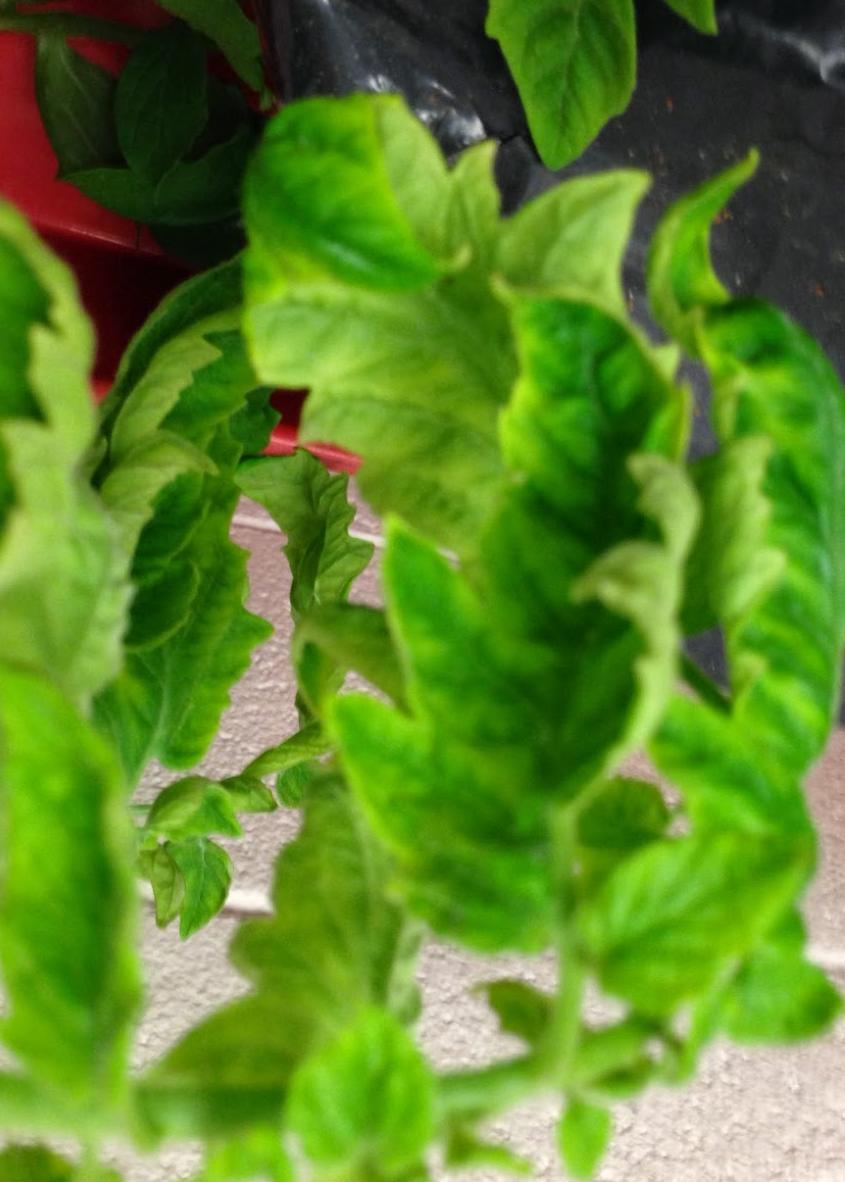Tomato leaf yellow virus: (368, 247, 711, 1009), (696, 282, 845, 1182), (0, 644, 179, 1156), (492, 0, 650, 162)
